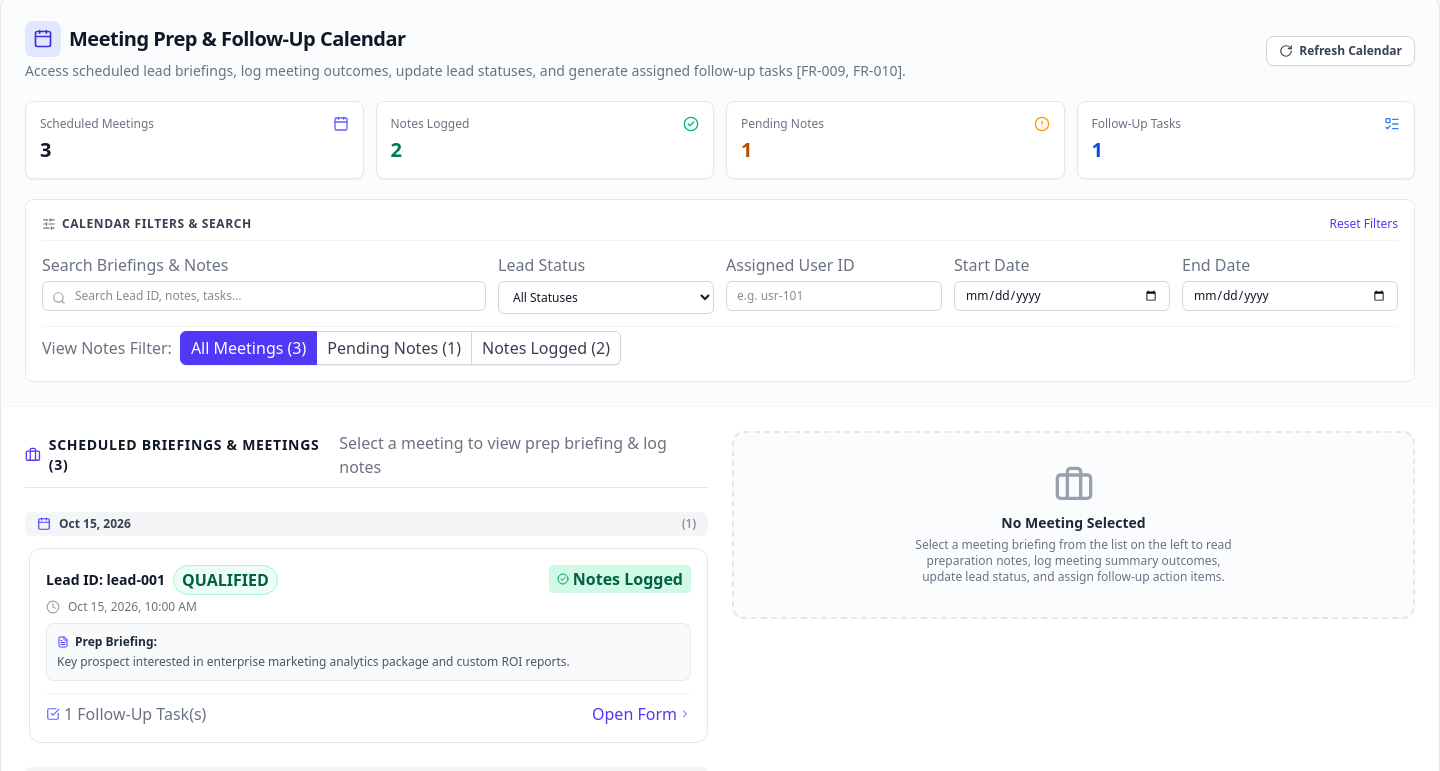
Test: MeetingCalendar Component & Helpers [FR-009, FR-010] › Meeting Briefing Inspection & Note Submission [FR-009, FR-010] › shows error banner when form submission fails
The image size is (1440, 771).
Click the element with test id "meeting-card-mtg-101": (368, 646) [29,548,708,743]
(page scrolled)
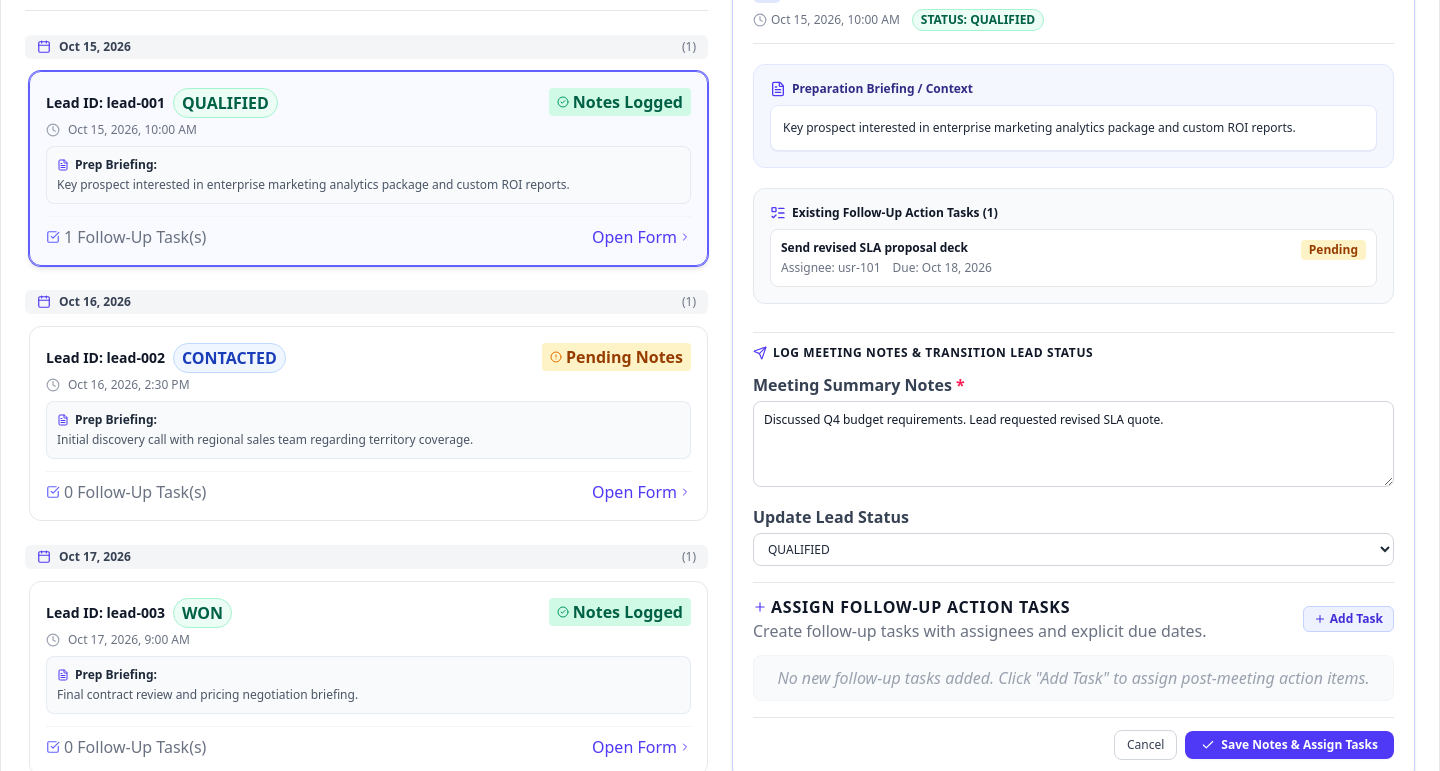
Note: Submit form
Click the button with test id "submit-notes-btn": (1290, 744) [1185,730,1394,758]
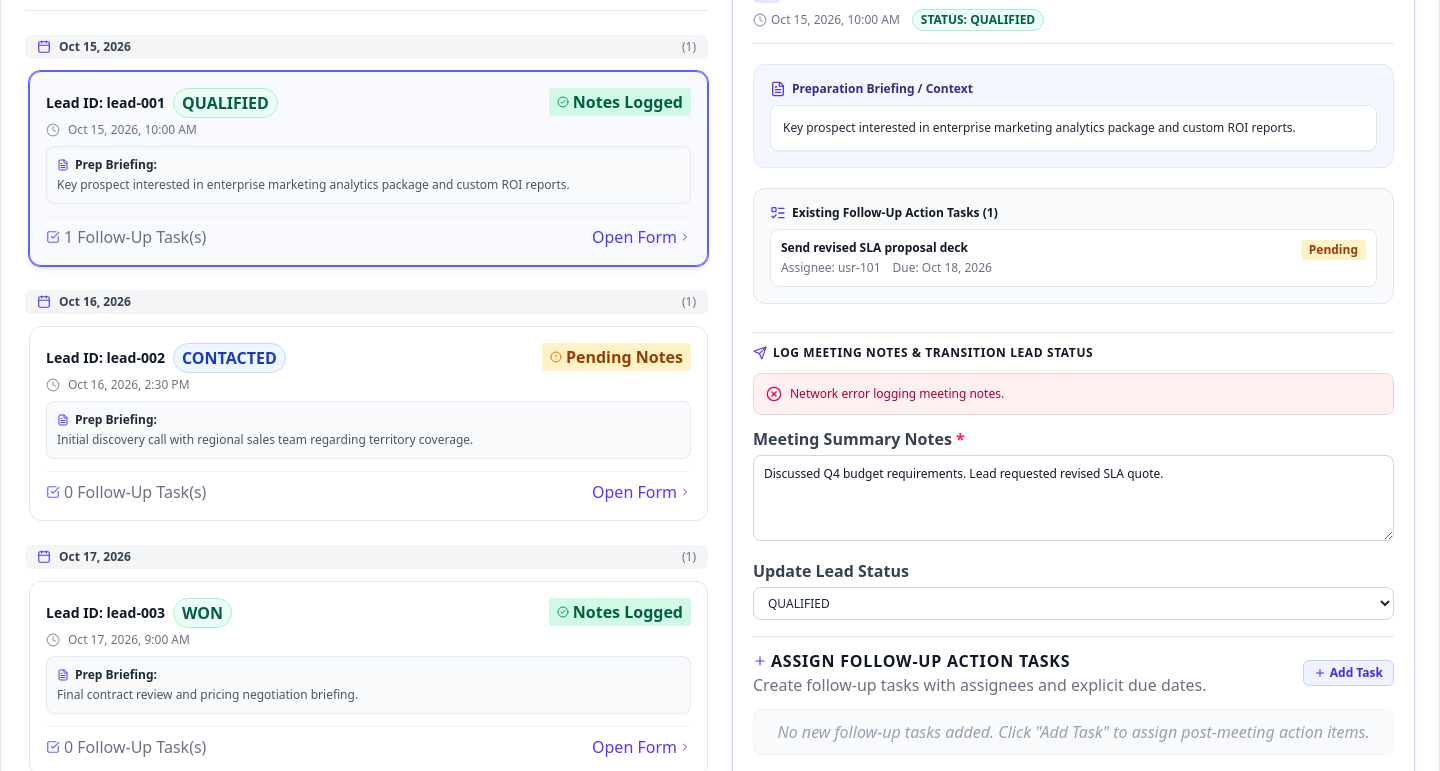
Result: the element with test id "notes-submit-error-banner" is shown at [753,372,1394,414]
Result: the text "Network error logging meeting notes." is shown at [790,386,1004,402]
